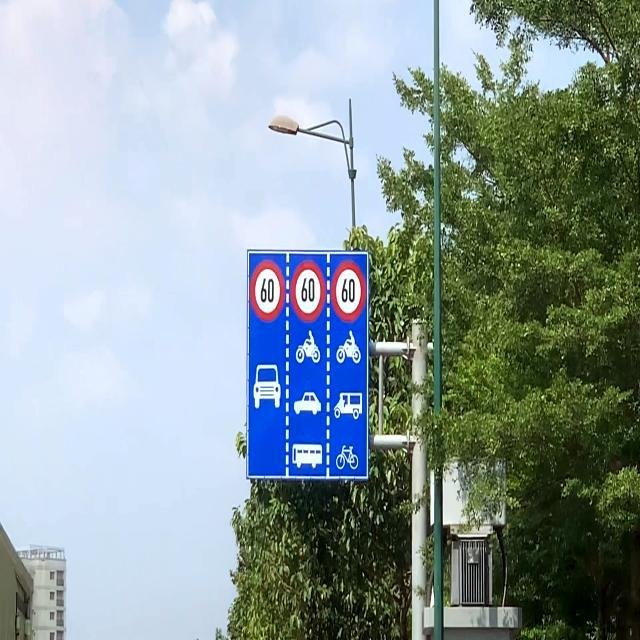Toc do toi da cho phep: (290, 260, 326, 322), (250, 259, 285, 322), (331, 260, 366, 322)
